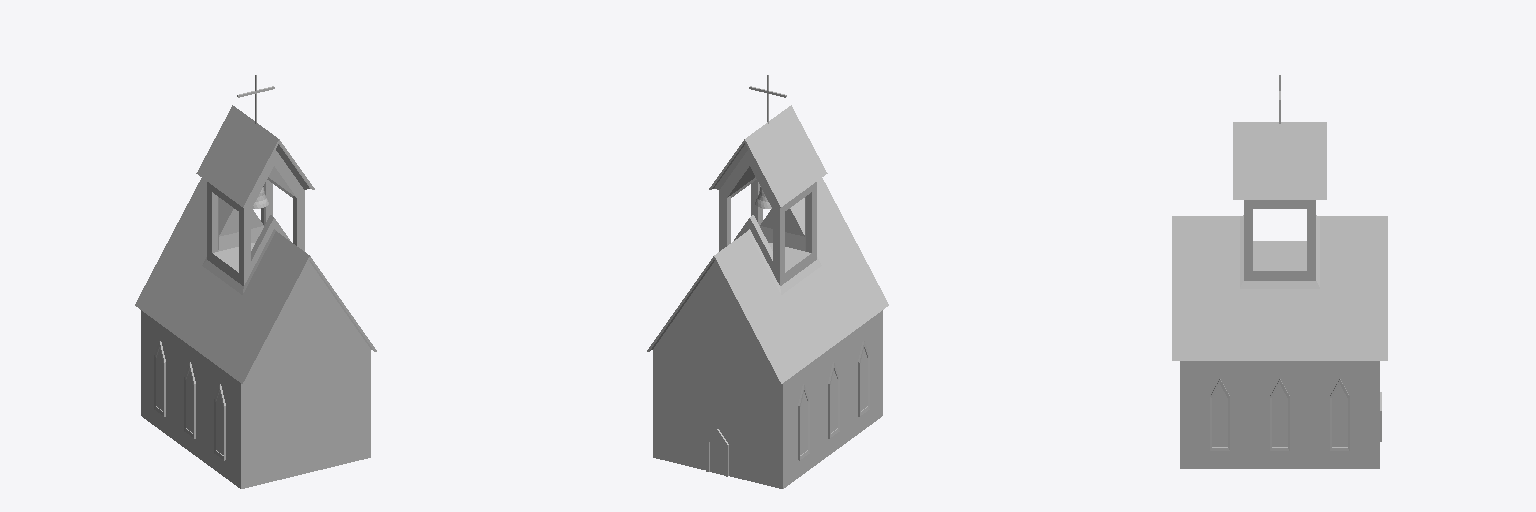
The model's file is church.obj.
The picture shows the model from 3 angles: view 1: azimuth 30°, elevation 25°; view 2: azimuth 150°, elevation 25°; view 3: azimuth 270°, elevation 25°; orthographic projection.
Visible parts, largest first — view 1: Church_Cube.001, Windows_Plane.003; view 2: Church_Cube.001, Windows_Plane.003; view 3: Church_Cube.001, Windows_Plane.003.
Part boxes in pixels (x1,y1,x2,y2): Church_Cube.001: (135,105,376,488); Windows_Plane.003: (154,341,225,460); Church_Cube.001: (647,105,888,488); Windows_Plane.003: (798,341,869,460); Church_Cube.001: (1172,122,1387,468); Windows_Plane.003: (1210,379,1349,450).
Bounding box in the file's own units: 7.8 × 20 × 10.81.